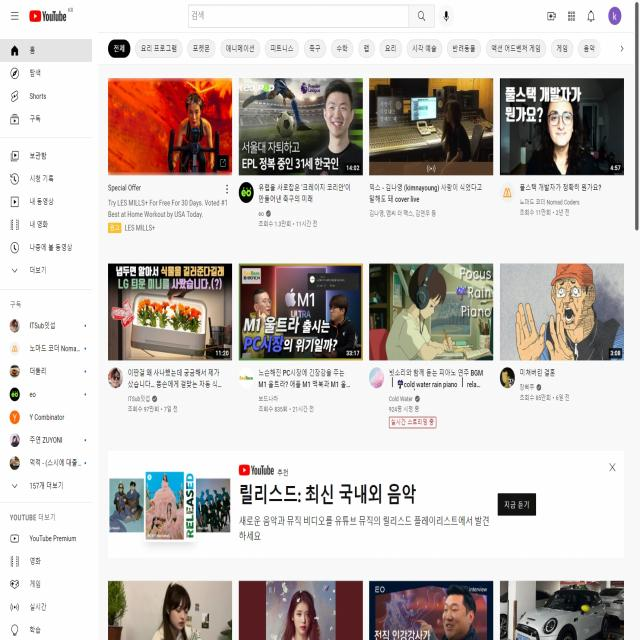menu-bar: (540, 3, 627, 28)
search: (185, 2, 437, 29)
